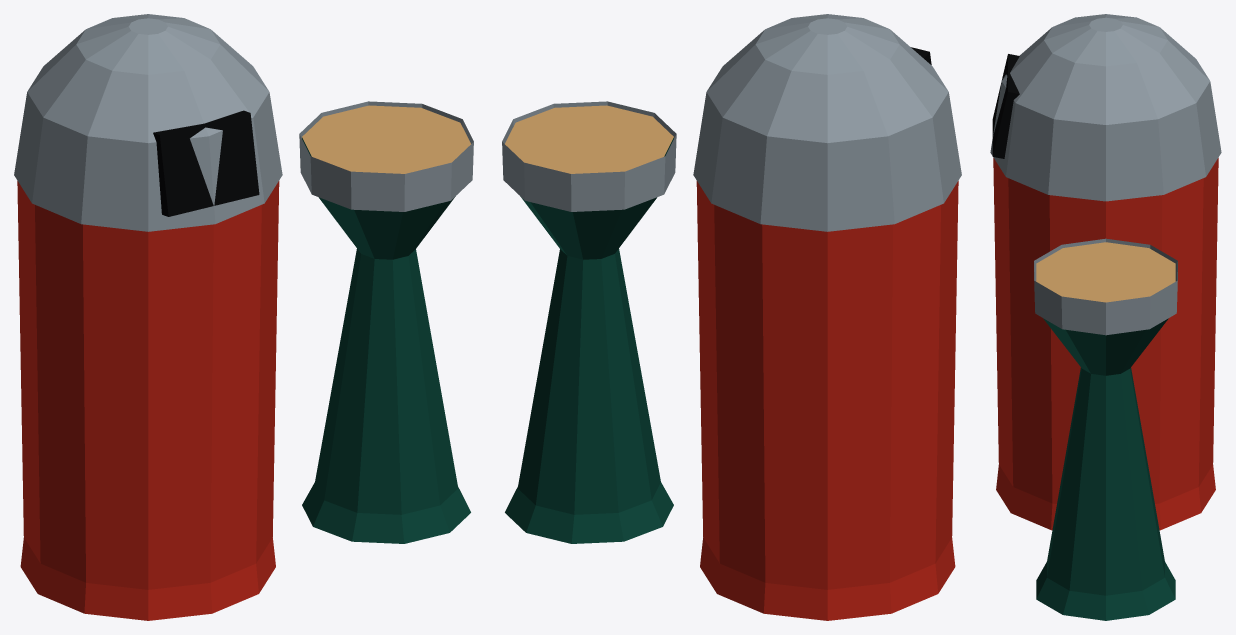
File: cozy_bowling_trash_ashtray_duo.obj
The picture shows the model from 3 angles, left to right: view 1: azimuth 30°, elevation 25°; view 2: azimuth 150°, elevation 25°; view 3: azimuth 270°, elevation 25°; orthographic projection. The views are drawn at different scales.
Visible parts, largest first — view 1: TrashDuo_Mesh; view 2: TrashDuo_Mesh; view 3: TrashDuo_Mesh.
Part boxes in pixels (x1,y1,x2,y2): TrashDuo_Mesh: (14,14,473,620); TrashDuo_Mesh: (502,14,961,620); TrashDuo_Mesh: (990,14,1221,620).
Bounding box in the file's own units: 0.759 × 0.91 × 0.41.
